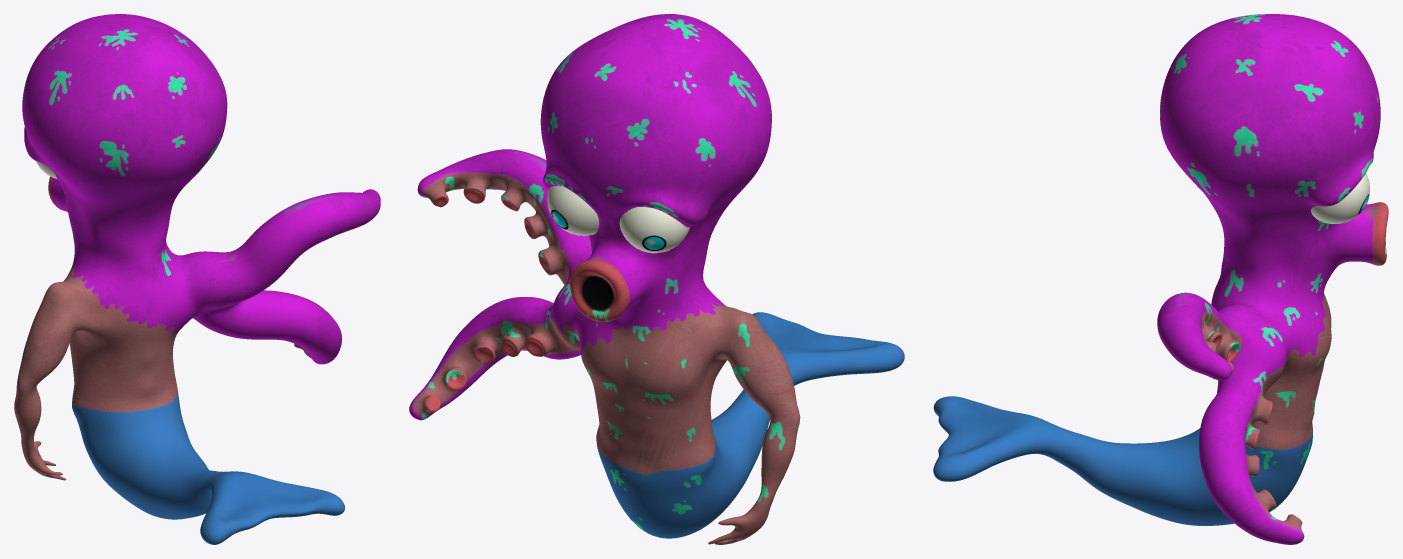
The model's file is Exporttest Sea man.fbx.
3 views of the same model, side by side, from view 1: azimuth 30°, elevation 25°; view 2: azimuth 150°, elevation 25°; view 3: azimuth 270°, elevation 25° (orthographic). The views are drawn at different scales.
Parts seen in each view (by area): view 1: octopusy to hipolly2; view 2: octopusy to hipolly2, Object001; view 3: octopusy to hipolly2, Object001.
Part boxes in pixels (<box>): octopusy to hipolly2: <box>14,14,380,544</box>; octopusy to hipolly2: <box>409,14,904,544</box>; Object001: <box>547,185,689,253</box>; octopusy to hipolly2: <box>933,14,1388,544</box>; Object001: <box>1311,173,1369,223</box>.
Size of the model in its own units: 3.92 by 4.99 by 4.11.
